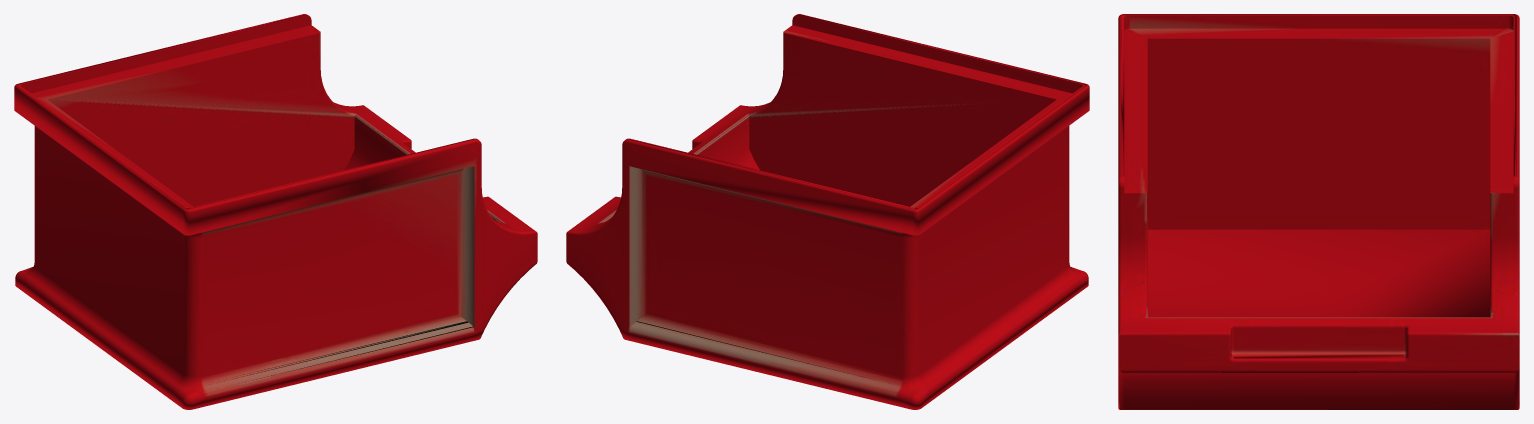
File: Container_box_red.fbx
The picture shows the model from 3 angles, left to right: view 1: azimuth 30°, elevation 25°; view 2: azimuth 150°, elevation 25°; view 3: azimuth 270°, elevation 25°; orthographic projection. The views are drawn at different scales.
Parts seen in each view (by area): view 1: Container_box_blue; view 2: Container_box_blue; view 3: Container_box_blue.
Part boxes in pixels (left/top/right/bottom): Container_box_blue: left=14, top=14, right=537, bottom=409; Container_box_blue: left=566, top=14, right=1089, bottom=409; Container_box_blue: left=1118, top=14, right=1519, bottom=409.
Bounding box in the file's own units: 160 × 87 × 137.
Materials: 1 (1 with a texture image).
